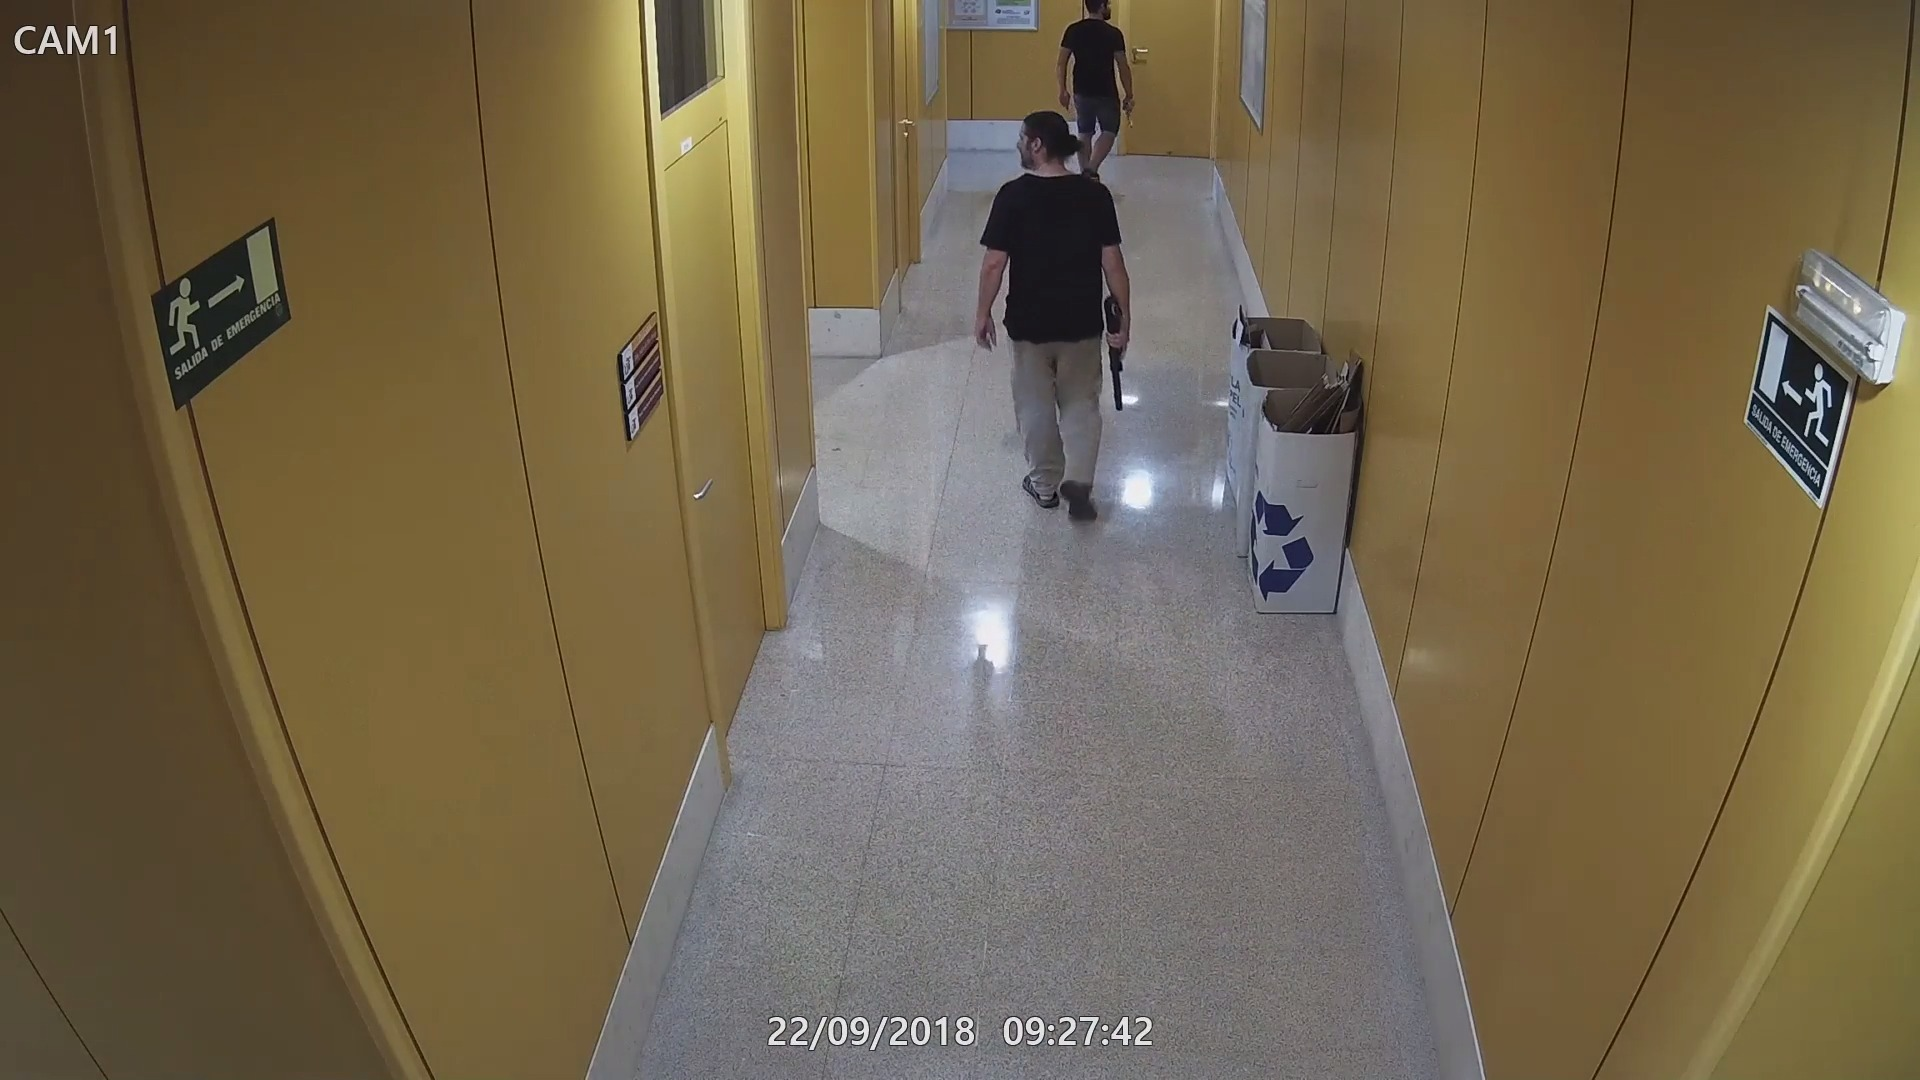Handgun: (1117, 91, 1143, 133)
Short_rifle: (1102, 290, 1127, 411)
